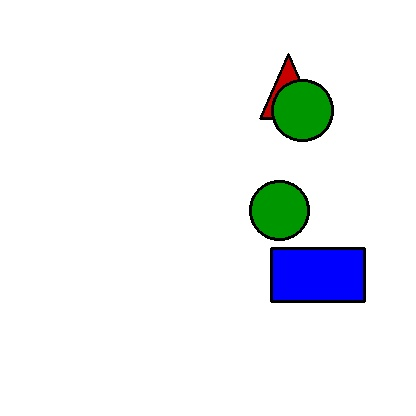circle: (272, 67, 333, 153), (241, 181, 318, 240)
rectangle: (271, 248, 364, 301)
triangle: (260, 54, 316, 118)
